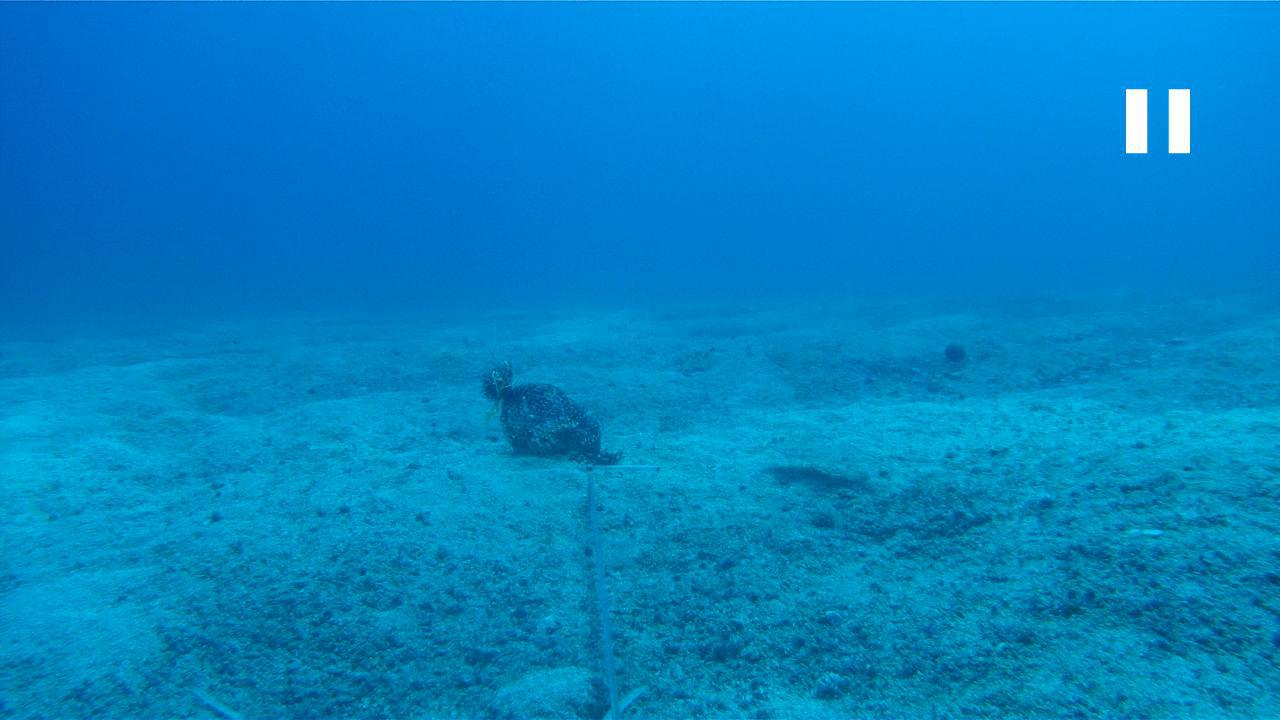bothus: (756, 427, 871, 466)
